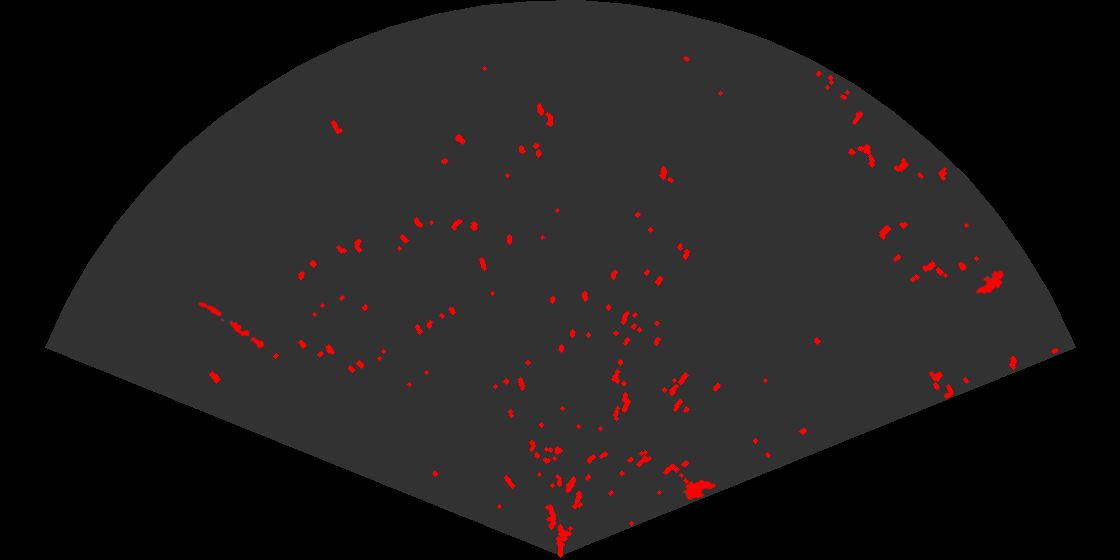AUV: (681, 478, 718, 502), (974, 269, 1006, 296)
chain: (196, 300, 274, 355)
